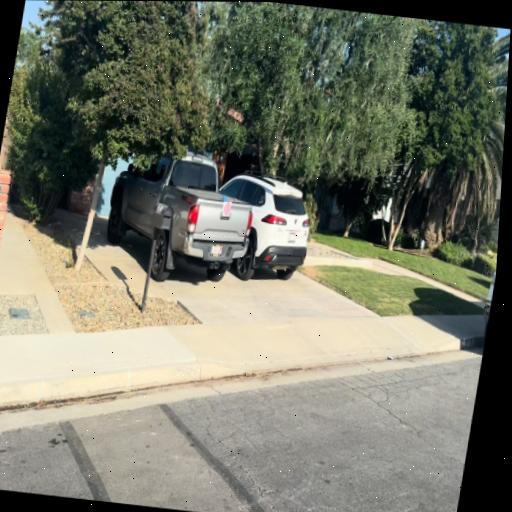bullseye: (223, 201, 232, 216)
